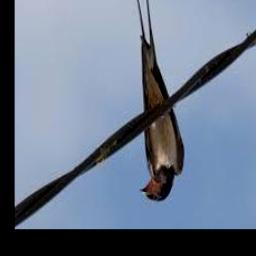Swallow: (132, 0, 184, 202)
